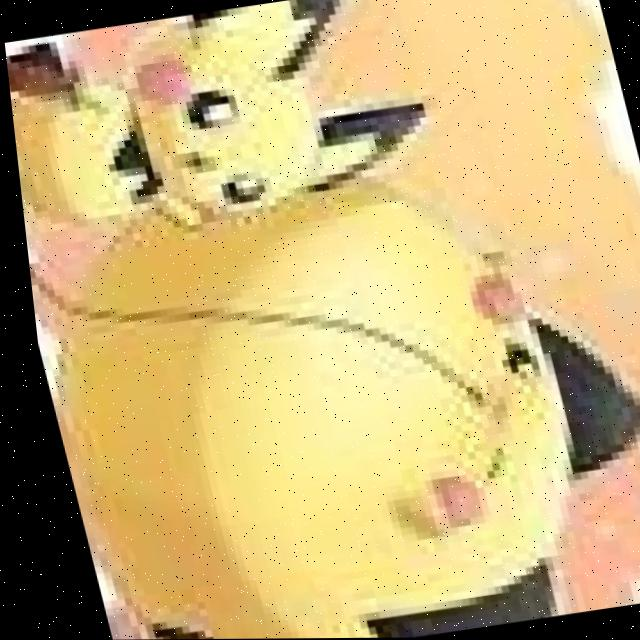pichu: (0, 0, 455, 250)
